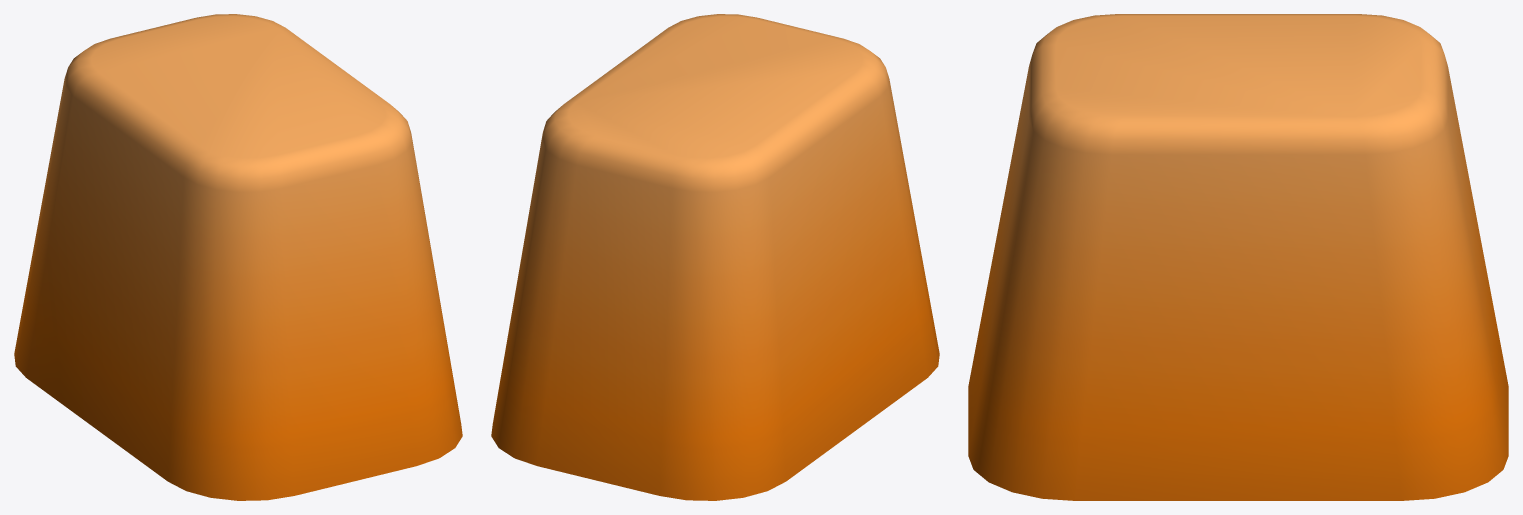
File: Rock_A_02.fbx
3 renders of one model, left to right at view 1: azimuth 30°, elevation 25°; view 2: azimuth 150°, elevation 25°; view 3: azimuth 270°, elevation 25°, orthographic. The views are drawn at different scales.
Parts seen in each view (by area): view 1: Rock_A_02; view 2: Rock_A_02; view 3: Rock_A_02.
Boxes of the visible parts, x1=… form: Rock_A_02: x1=14, y1=14, x2=462, y2=500; Rock_A_02: x1=491, y1=14, x2=939, y2=500; Rock_A_02: x1=968, y1=14, x2=1508, y2=500.
Bounding box in the file's own units: 123 × 128 × 177.
